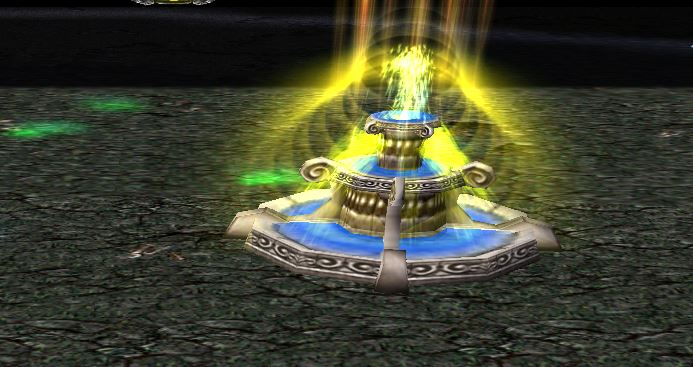sunwell: (242, 38, 571, 284)
